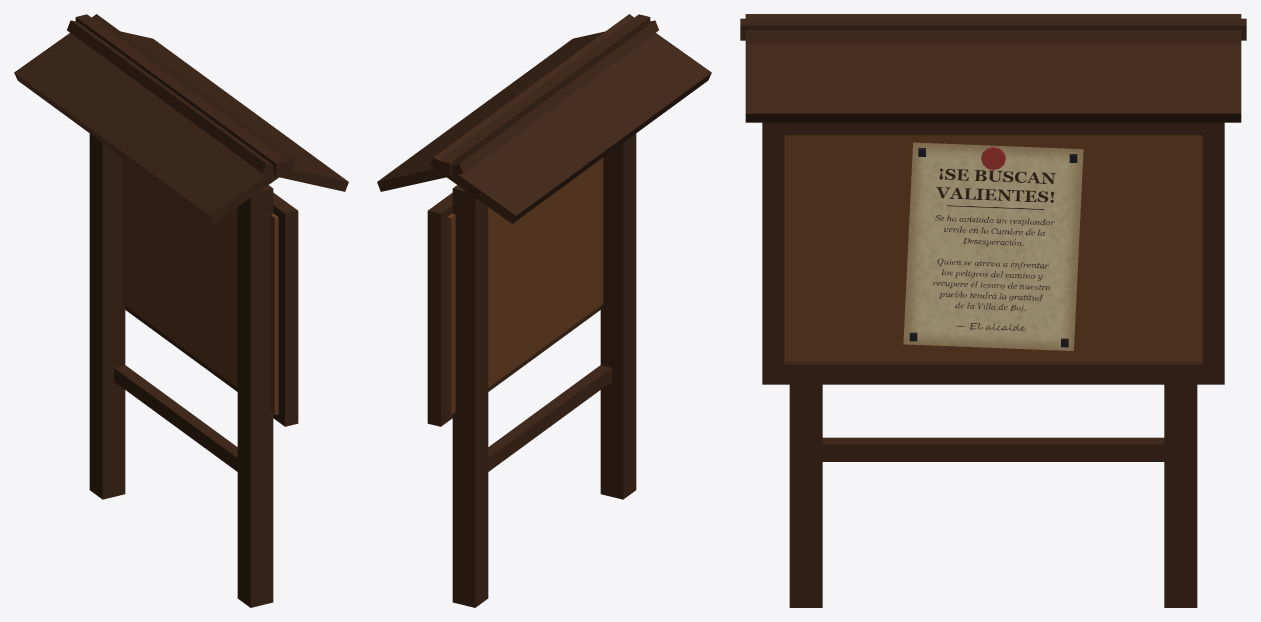
File: TablonAnuncio.glb
3 renders of one model, left to right at view 1: azimuth 30°, elevation 25°; view 2: azimuth 150°, elevation 25°; view 3: azimuth 270°, elevation 25°, orthographic. The views are drawn at different scales.
Parts seen in each view (by area): view 1: TablonAnuncio; view 2: TablonAnuncio; view 3: TablonAnuncio, TablonAnuncioCarta.
Part boxes in pixels (box(x1,y1,x2,y2)): TablonAnuncio: box(14, 14, 348, 607); TablonAnuncio: box(377, 14, 711, 607); TablonAnuncio: box(740, 14, 1246, 607); TablonAnuncioCarta: box(903, 142, 1083, 350).
Size of the model in its own units: 0.7388 by 2.32 by 1.84.
5 materials, 1 textured.
